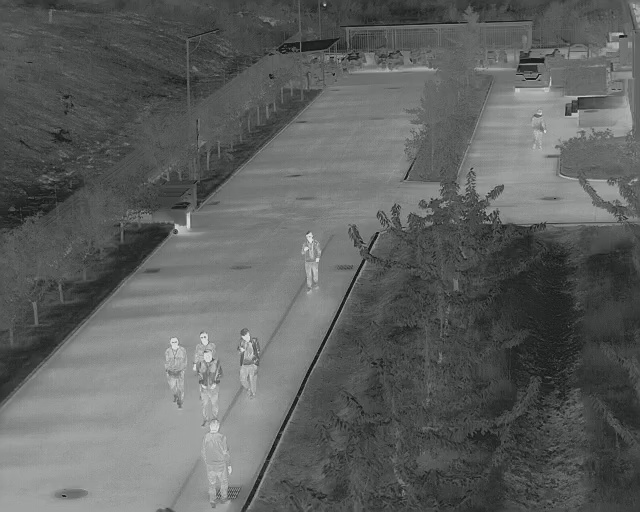person: (203, 417, 233, 510), (196, 350, 224, 425), (235, 328, 261, 400), (164, 336, 188, 411), (299, 231, 323, 297), (530, 107, 548, 150)
vehicle: (512, 56, 552, 95)
